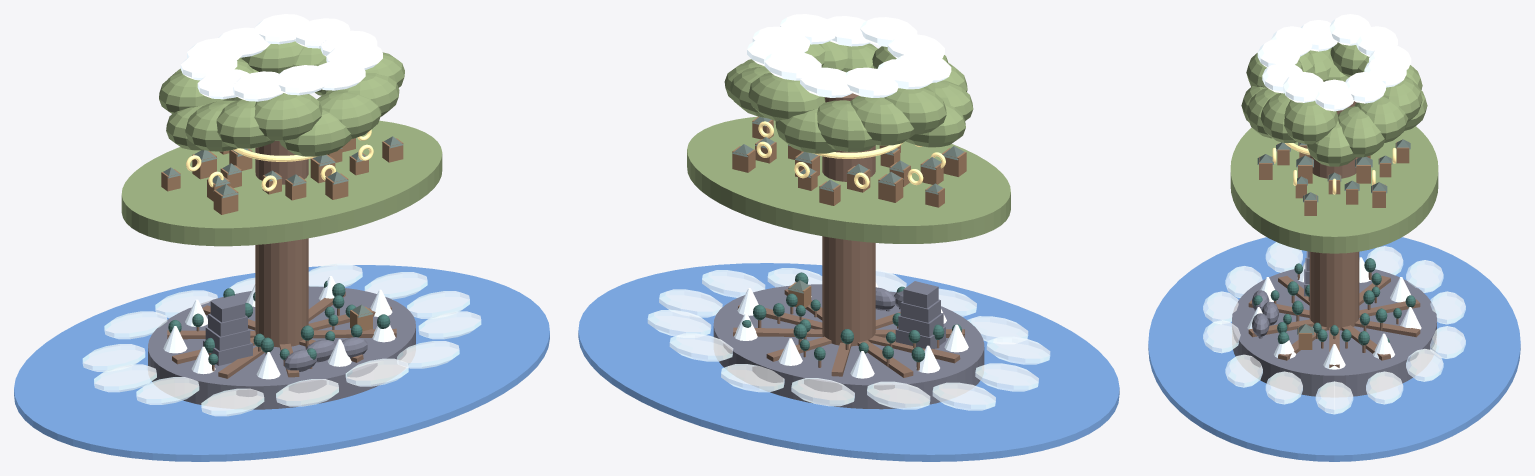
Rendered from elbaph-adam-world-system.glb.
3 views of the same model, side by side, from view 1: azimuth 30°, elevation 25°; view 2: azimuth 150°, elevation 25°; view 3: azimuth 270°, elevation 25° (orthographic). The views are drawn at different scales.
Parts seen in each view (by area): view 1: Elbaph sleeping-mist sea, Elbaph Sun World branch shelf, Elbaph Underworld roots, Treasure Tree Adam trunk, Adam upper canopy 12, Adam upper canopy 11, Adam upper canopy 14, Adam upper canopy 13, Adam upper canopy 10, Adam upper canopy 08, Sleeping mist bank 14, Sleeping mist bank 12 (+30 smaller); view 2: Elbaph sleeping-mist sea, Elbaph Sun World branch shelf, Elbaph Underworld roots, Treasure Tree Adam trunk, Adam upper canopy 04, Adam upper canopy 06, Adam upper canopy 07, Adam upper canopy 08, Adam upper canopy 05, Sleeping mist bank 03, Sleeping mist bank 05, Sleeping mist bank 08 (+31 smaller); view 3: Elbaph sleeping-mist sea, Elbaph Sun World branch shelf, Elbaph Underworld roots, Treasure Tree Adam trunk, Adam upper canopy 16, Adam upper canopy 02, Adam upper canopy 03, Adam upper canopy 01, Adam upper canopy 15, Sleeping mist bank 01, Sleeping mist bank 13, Sleeping mist bank 02 (+27 smaller).
Boxes of the visible parts, box(x1,y1,x2,y2) form: Elbaph sleeping-mist sea: box(14, 265, 549, 461); Elbaph Sun World branch shelf: box(121, 120, 442, 246); Elbaph Underworld roots: box(148, 286, 415, 409); Treasure Tree Adam trunk: box(255, 141, 308, 347); Adam upper canopy 12: box(254, 93, 322, 140); Adam upper canopy 11: box(216, 99, 274, 148); Adam upper canopy 14: box(317, 91, 381, 138); Adam upper canopy 13: box(279, 109, 351, 156); Adam upper canopy 10: box(185, 100, 237, 151); Adam upper canopy 08: box(159, 71, 232, 113); Sleeping mist bank 14: box(418, 311, 481, 339); Sleeping mist bank 12: box(345, 358, 408, 386); Elbaph sleeping-mist sea: box(578, 263, 1119, 461); Elbaph Sun World branch shelf: box(687, 116, 1010, 243); Elbaph Underworld roots: box(713, 284, 984, 409); Treasure Tree Adam trunk: box(822, 93, 875, 346); Adam upper canopy 04: box(748, 72, 825, 121); Adam upper canopy 06: box(817, 100, 876, 151); Adam upper canopy 07: box(850, 96, 914, 145); Adam upper canopy 08: box(884, 87, 946, 134); Adam upper canopy 05: box(775, 108, 837, 153); Sleeping mist bank 03: box(669, 333, 733, 361); Sleeping mist bank 05: box(791, 378, 854, 406); Sleeping mist bank 08: box(975, 363, 1038, 391); Elbaph sleeping-mist sea: box(1148, 237, 1520, 461); Elbaph Sun World branch shelf: box(1230, 126, 1438, 253); Elbaph Underworld roots: box(1232, 269, 1436, 396); Treasure Tree Adam trunk: box(1309, 101, 1359, 330); Adam upper canopy 16: box(1284, 100, 1338, 144); Adam upper canopy 02: box(1338, 106, 1384, 157); Adam upper canopy 03: box(1355, 96, 1408, 142); Adam upper canopy 01: box(1306, 120, 1355, 166); Adam upper canopy 15: box(1260, 93, 1296, 142); Sleeping mist bank 01: box(1315, 381, 1353, 414); Sleeping mist bank 13: box(1225, 354, 1262, 387); Sleeping mist bank 02: box(1366, 371, 1403, 404).
Bounding box in the file's own units: 33.35 × 20.63 × 23.2.
